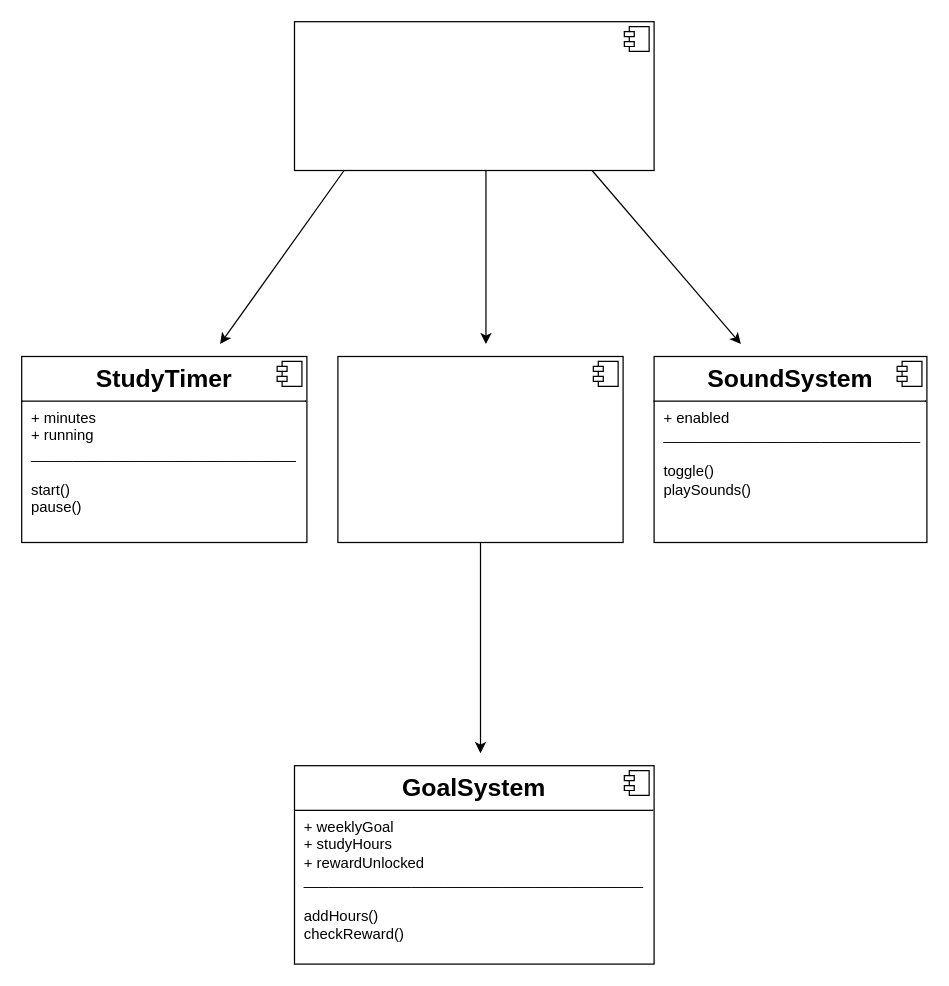
Some shapes in this 949 by 986 pixel diagram are drawn without their labels. Each missing label, with the centre of its shape:
"BreakTimer + minutes + running _________________________________ start() pause()" belongs at (x=480, y=448).
"StudyApp + main controller" belongs at (x=473, y=95).
